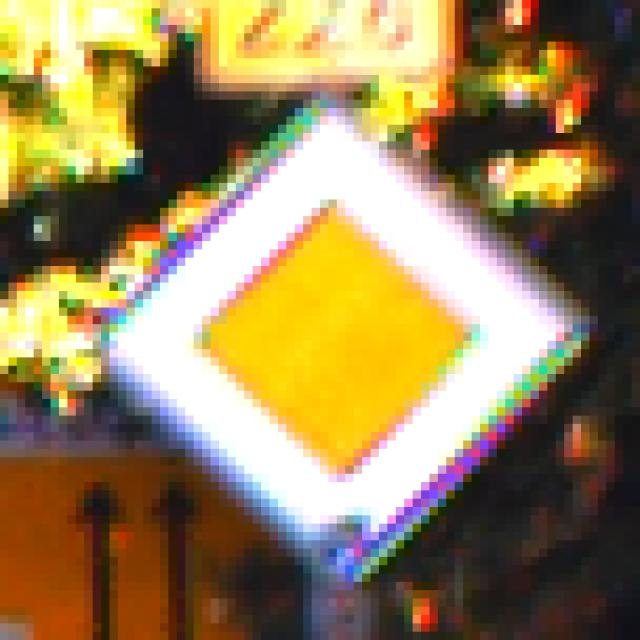Main Road: (60, 59, 590, 583)
